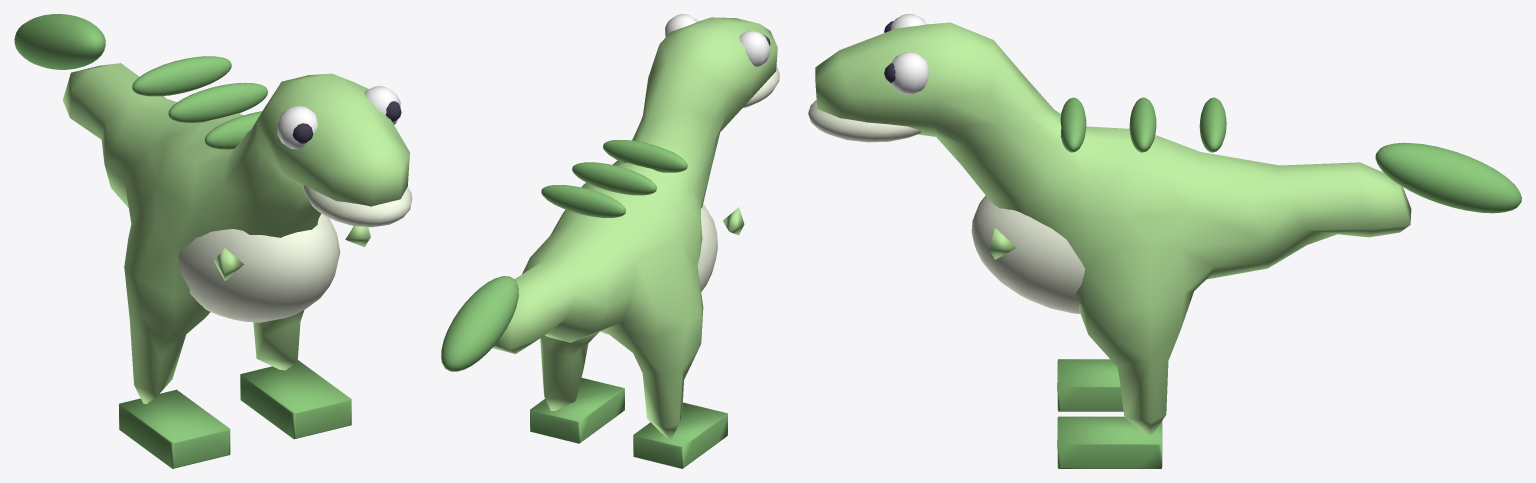
Rendered from Dino_Compy.fbx.
3 renders of one model, left to right at view 1: azimuth 30°, elevation 25°; view 2: azimuth 150°, elevation 25°; view 3: azimuth 270°, elevation 25°, orthographic. The views are drawn at different scales.
Visible parts, largest first — view 1: Body.005, Accent.005, Belly.005, EyeWhite.005, Pupil.005; view 2: Body.005, Accent.005, Belly.005, EyeWhite.005; view 3: Body.005, Accent.005, Belly.005, EyeWhite.005.
Boxes of the visible parts, left/top/right/bottom form: Body.005: left=62, top=63, right=409, bottom=404; Accent.005: left=14, top=14, right=351, bottom=468; Belly.005: left=178, top=185, right=412, bottom=322; EyeWhite.005: left=277, top=86, right=400, bottom=149; Pupil.005: left=292, top=101, right=401, bottom=143; Body.005: left=492, top=17, right=777, bottom=439; Accent.005: left=441, top=140, right=727, bottom=468; Belly.005: left=600, top=66, right=779, bottom=334; EyeWhite.005: left=665, top=14, right=769, bottom=66; Body.005: left=815, top=22, right=1411, bottom=434; Accent.005: left=1057, top=97, right=1521, bottom=468; Belly.005: left=808, top=100, right=1085, bottom=313; EyeWhite.005: left=890, top=14, right=928, bottom=94.
Bounding box in the file's own units: 1.31 × 2.82 × 4.58.
